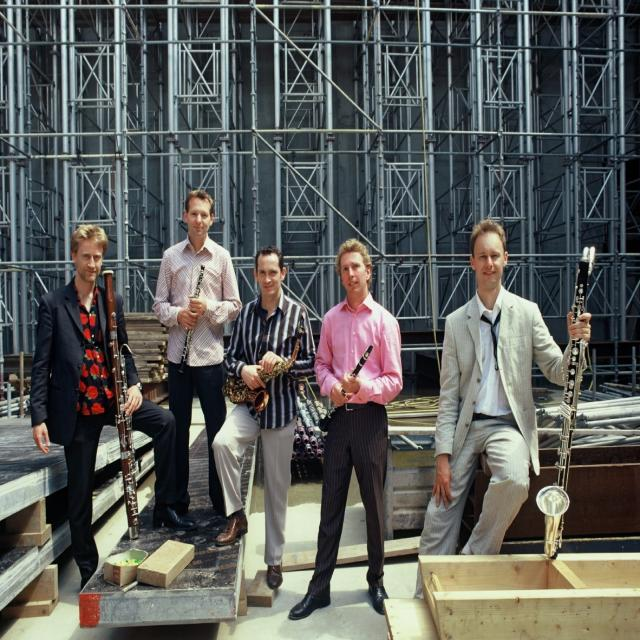clarinet: (316, 342, 374, 436), (174, 262, 208, 379)
saxophone: (220, 321, 309, 413)
